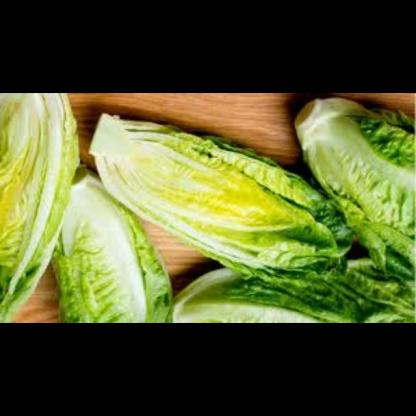salad: (86, 105, 355, 281), (295, 96, 416, 273), (49, 166, 180, 324), (1, 94, 80, 321), (169, 267, 416, 324)
